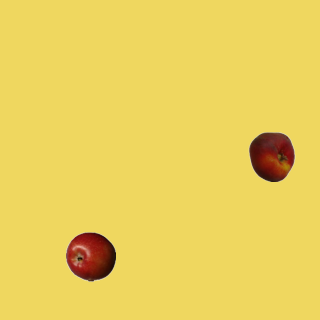Apple Braeburn: (65, 231, 115, 281)
Nectarine Flat: (246, 131, 296, 181)
